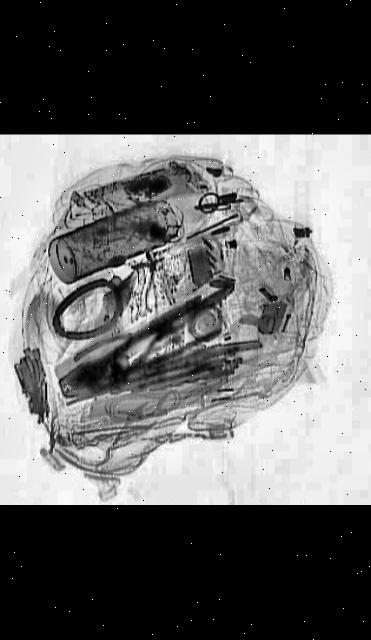Pliers: (30, 282, 290, 422), (67, 310, 196, 387)
